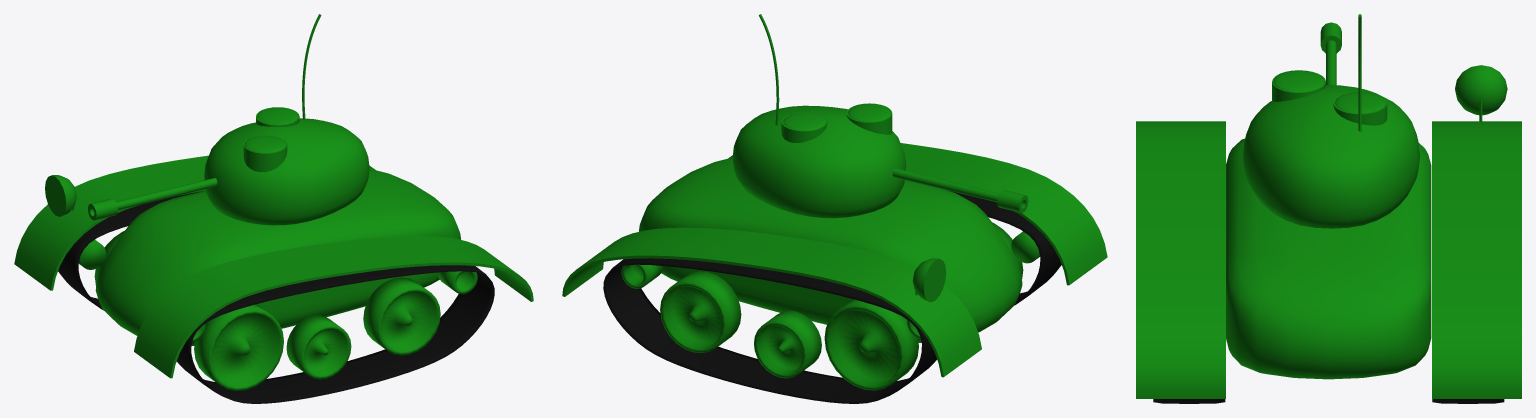
The model's file is Tank.fbx.
3 renders of one model, left to right at view 1: azimuth 30°, elevation 25°; view 2: azimuth 150°, elevation 25°; view 3: azimuth 270°, elevation 25°, orthographic. The views are drawn at different scales.
Parts seen in each view (by area): view 1: Box01, Line04, Line03; view 2: Box01, Line03, Line04; view 3: Box01, Line05, Line03, Line04.
Part boxes in pixels (bbox=[...]): Box01: bbox=[14, 107, 533, 391]; Line04: bbox=[176, 265, 494, 403]; Line03: bbox=[58, 191, 201, 310]; Box01: bbox=[562, 103, 1107, 390]; Line03: bbox=[603, 258, 936, 403]; Line04: bbox=[948, 190, 1061, 305]; Box01: bbox=[1136, 22, 1521, 398]; Line05: bbox=[1358, 14, 1361, 131]; Line03: bbox=[1432, 399, 1504, 403]; Line04: bbox=[1153, 399, 1225, 403].
Size of the model in its own units: 289 by 230 by 215.
